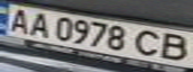0: (51, 14, 75, 43)
7: (87, 19, 109, 48)
8: (106, 22, 130, 52)
9: (69, 17, 90, 46)
A: (3, 6, 33, 34), (24, 10, 54, 38)
B: (157, 30, 193, 62)
C: (133, 27, 169, 58)
